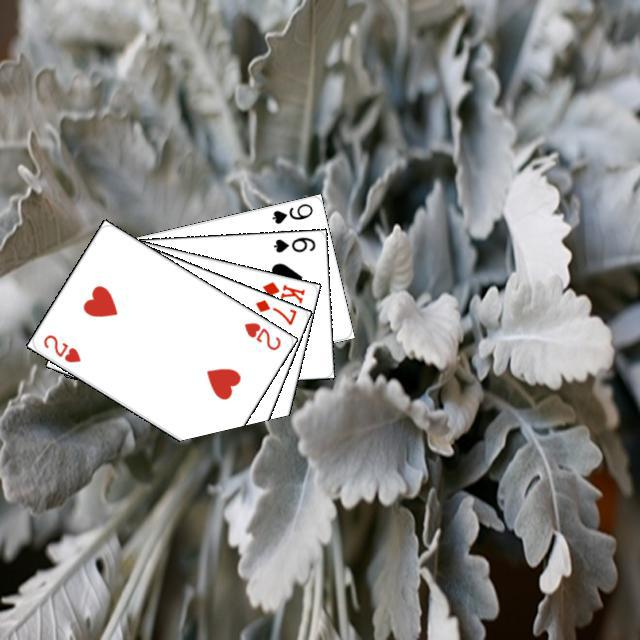2h: (239, 317, 283, 352), (38, 329, 82, 364)
6s: (269, 232, 317, 254)
7d: (250, 294, 298, 327)
9s: (267, 198, 314, 226)
Kd: (257, 277, 307, 305)
